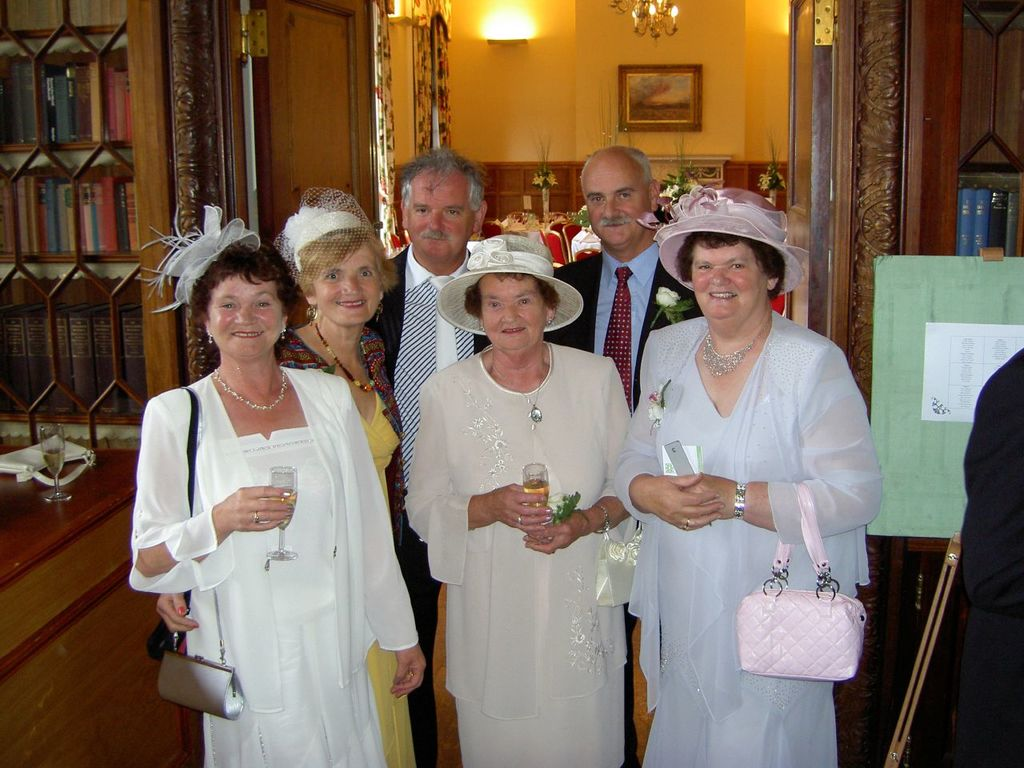Person: (127, 145, 1023, 767)
